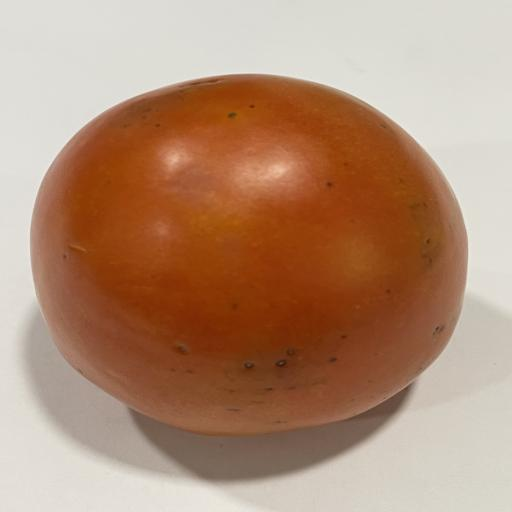ripe: (31, 74, 467, 435)
